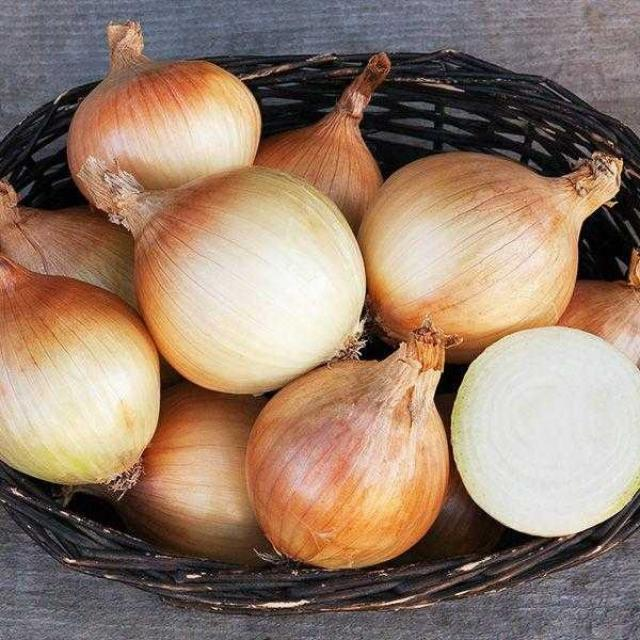onion: (82, 156, 367, 397), (355, 150, 624, 365), (247, 314, 450, 568), (1, 243, 165, 499), (449, 325, 640, 538), (66, 22, 264, 220), (108, 378, 278, 565), (256, 48, 391, 231), (0, 177, 139, 316), (408, 458, 508, 562), (557, 250, 640, 352)
